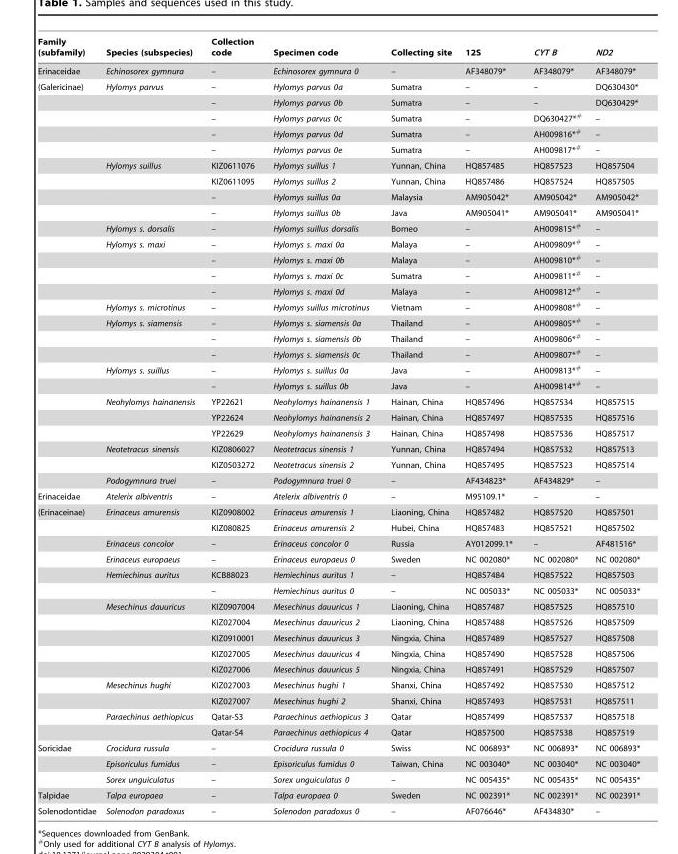table: (36, 37, 639, 815)
table column: (263, 37, 379, 815), (100, 37, 202, 815), (379, 37, 457, 815), (457, 37, 522, 815), (522, 37, 587, 815), (36, 37, 100, 815), (202, 37, 263, 815), (587, 37, 639, 815)
table column header: (36, 37, 639, 61)
table row: (36, 37, 639, 61), (36, 61, 639, 78), (36, 78, 639, 94), (36, 109, 639, 125), (36, 125, 639, 141), (36, 141, 639, 157), (36, 157, 639, 173), (36, 173, 639, 189), (36, 219, 639, 235), (36, 235, 639, 251), (36, 266, 639, 282), (36, 282, 639, 298), (36, 298, 639, 314), (36, 329, 639, 345), (36, 345, 639, 361), (36, 361, 639, 377), (36, 377, 639, 393), (36, 393, 639, 409), (36, 409, 639, 425), (36, 425, 639, 441), (36, 456, 639, 472), (36, 472, 639, 488), (36, 488, 639, 504), (36, 519, 639, 535), (36, 535, 639, 551), (36, 551, 639, 567), (36, 582, 639, 598), (36, 598, 639, 614), (36, 629, 639, 645), (36, 645, 639, 661), (36, 661, 639, 677), (36, 677, 639, 693), (36, 708, 639, 724), (36, 724, 639, 740), (36, 755, 639, 771), (36, 771, 639, 787), (36, 787, 639, 803), (36, 94, 639, 109), (36, 189, 639, 204), (36, 204, 639, 219), (36, 251, 639, 266), (36, 314, 639, 329), (36, 441, 639, 456), (36, 504, 639, 519), (36, 567, 639, 582), (36, 614, 639, 629), (36, 693, 639, 708), (36, 740, 639, 755), (36, 803, 639, 815)
table spanning cell: (36, 78, 100, 488), (36, 504, 100, 740), (36, 740, 100, 787)
